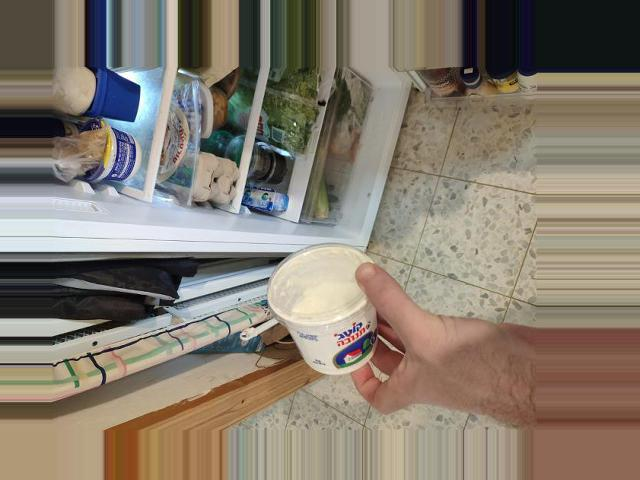cotage: (274, 255, 384, 375)
